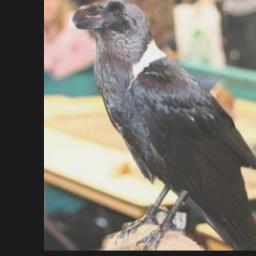Crow: (67, 0, 256, 250)
